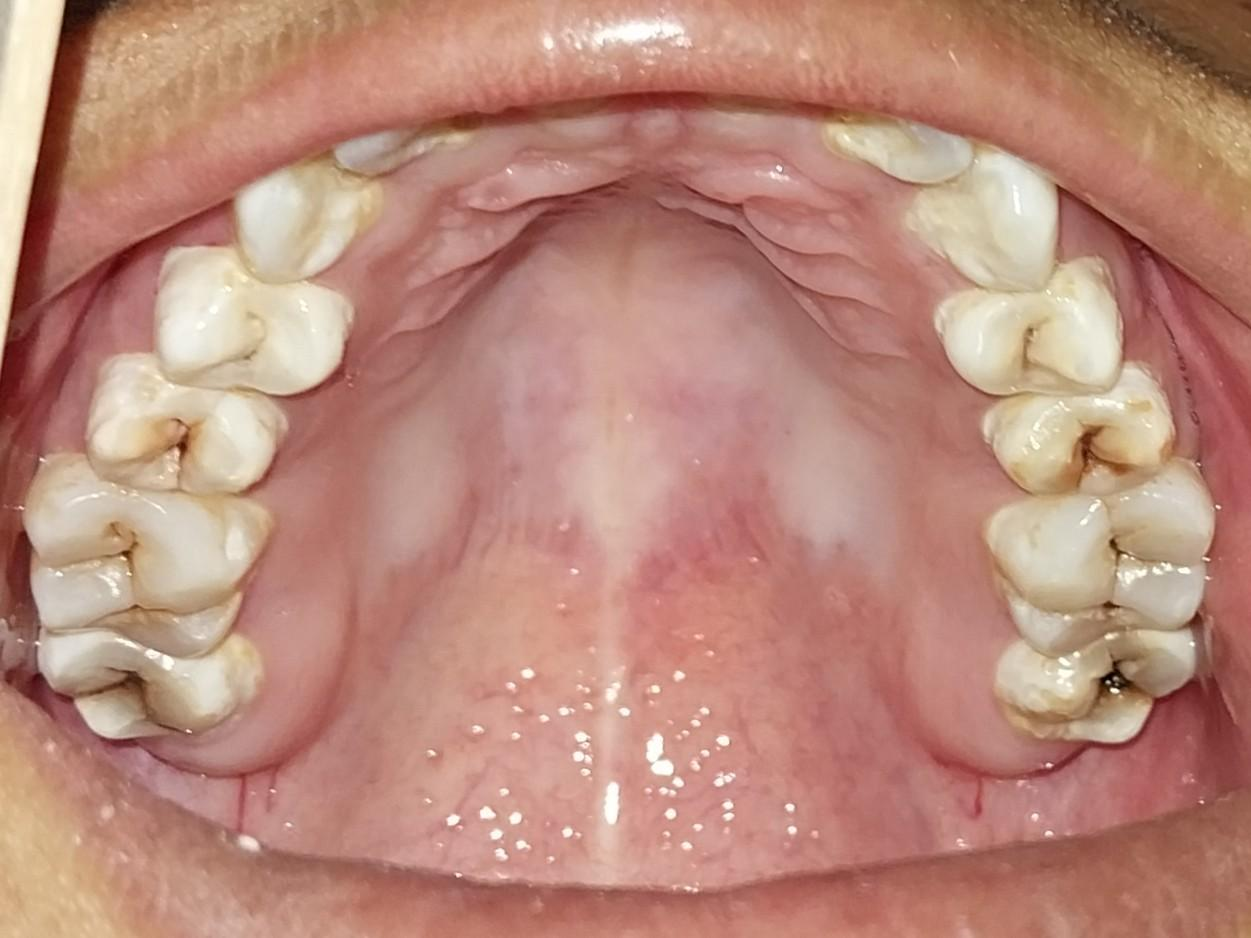D: (30, 465, 258, 654), (995, 481, 1219, 656), (85, 357, 284, 497), (938, 272, 1130, 403), (33, 629, 255, 740), (998, 638, 1190, 751), (984, 380, 1173, 491)
